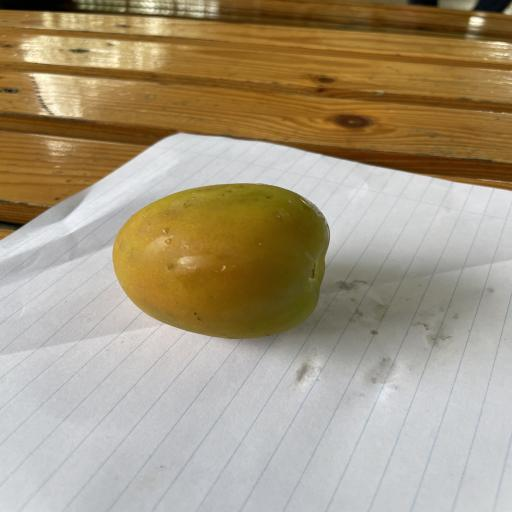unripe: (113, 183, 329, 338)
